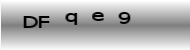9: (118, 11, 130, 24)
D: (22, 15, 38, 29)
F: (38, 15, 50, 28)
e: (91, 10, 104, 22)
q: (64, 12, 78, 25)
